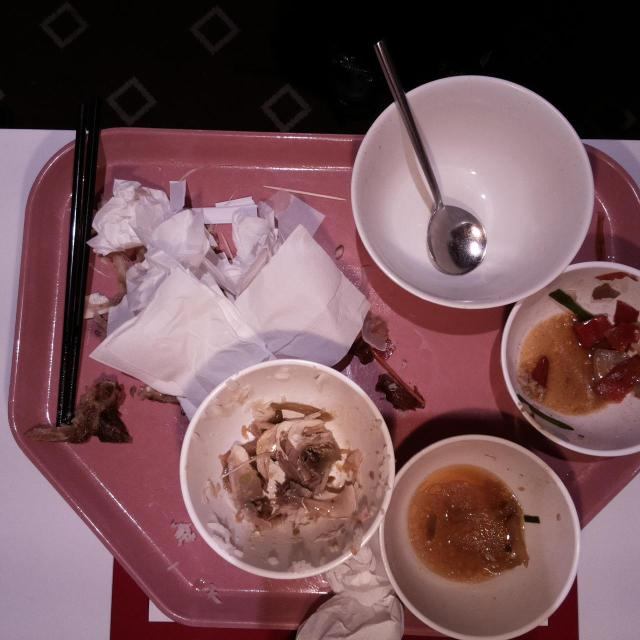Bone: (77, 374, 127, 446)
Bone-fish: (222, 407, 341, 529)
